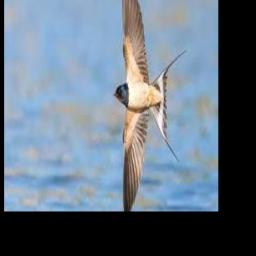Swallow: (114, 0, 187, 211)
